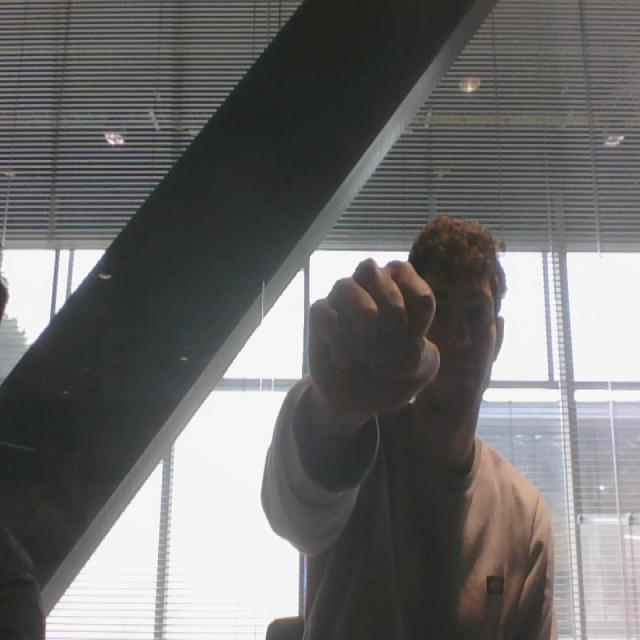stop: (302, 243, 444, 434)
